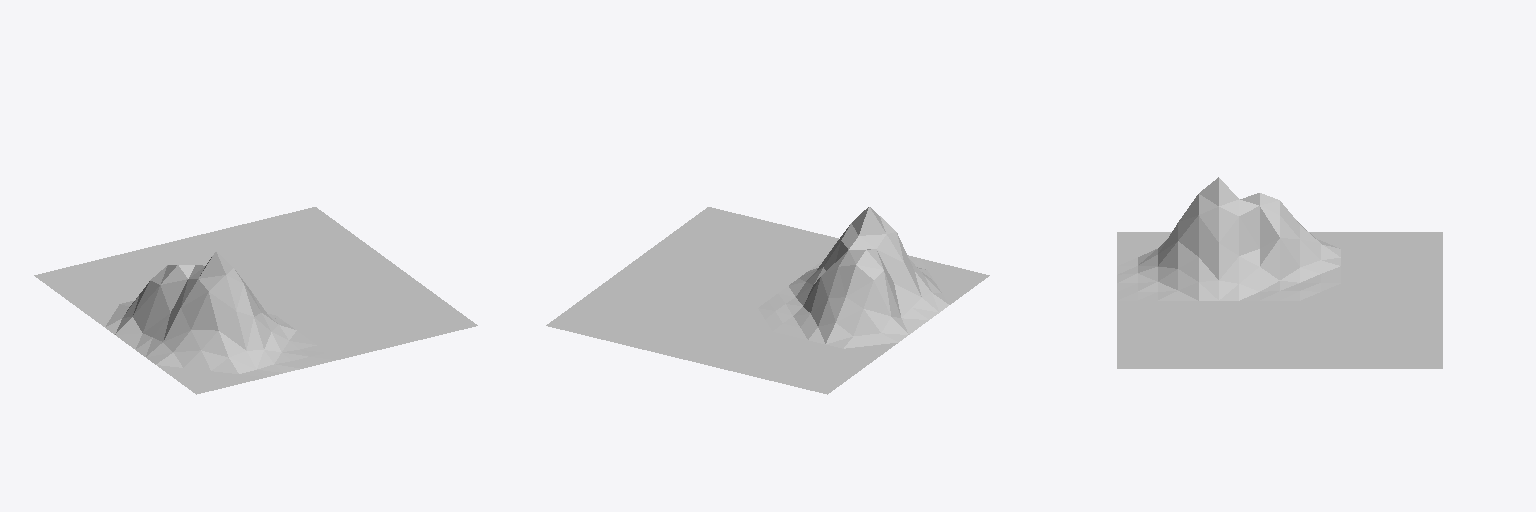
Rendered from mountain.obj.
3 views of the same model, side by side, from view 1: azimuth 30°, elevation 25°; view 2: azimuth 150°, elevation 25°; view 3: azimuth 270°, elevation 25° (orthographic).
Visible parts, largest first — view 1: arazi_Plane; view 2: arazi_Plane; view 3: arazi_Plane.
Boxes of the visible parts, x1,y1,x2,y2 form: arazi_Plane: [34, 207, 477, 394]; arazi_Plane: [546, 207, 989, 394]; arazi_Plane: [1117, 177, 1442, 368].
Bounding box in the file's own units: 7.96 × 2.41 × 7.96.